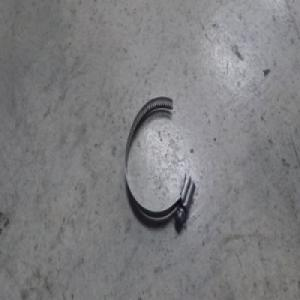AdjustableClamp: (123, 97, 194, 224)
